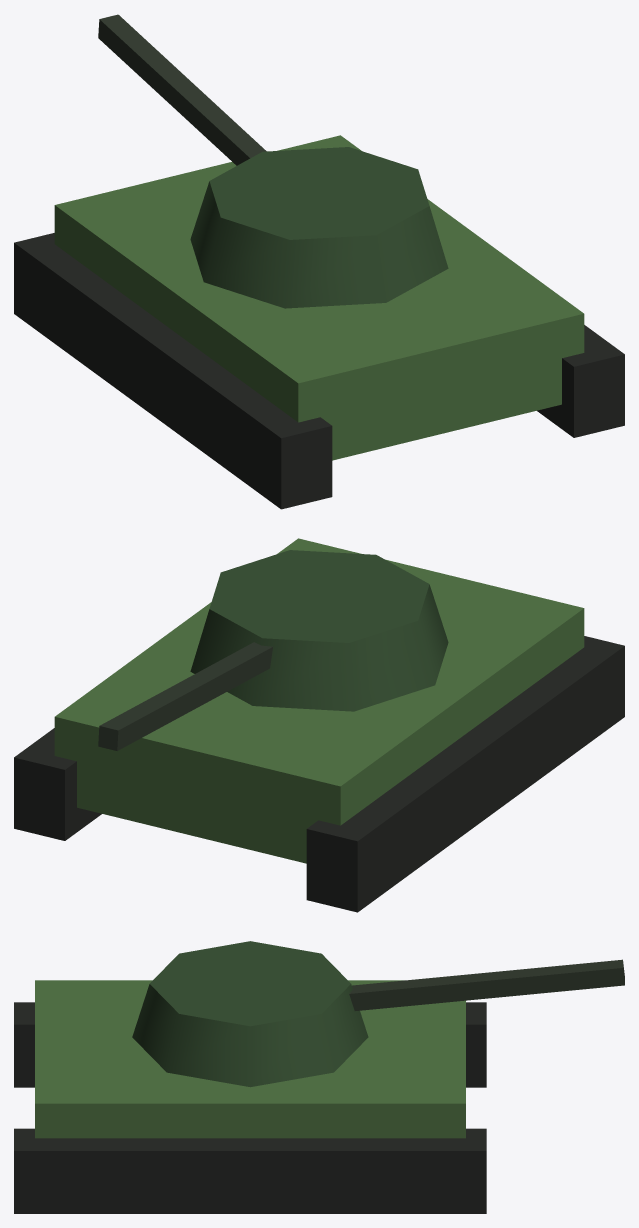
Rendered from zarch-player-tank.glb.
The picture shows the model from 3 angles, top to bottom: view 1: azimuth 30°, elevation 25°; view 2: azimuth 150°, elevation 25°; view 3: azimuth 270°, elevation 25°; orthographic projection. The views are drawn at different scales.
Visible parts, largest first — view 1: Chassis, Turret, TrackLeft, Cannon, TrackRight; view 2: Chassis, Turret, TrackLeft, Cannon, TrackRight; view 3: Chassis, TrackRight, Turret, Cannon, TrackLeft.
Part boxes in pixels (left/top/right/bottom): Chassis: left=54, top=135, right=584, bottom=460; Turret: left=190, top=147, right=448, bottom=308; TrackLeft: left=14, top=233, right=332, bottom=509; Cannon: left=98, top=14, right=266, bottom=165; TrackRight: left=537, top=325, right=624, bottom=437; Chassis: left=54, top=538, right=584, bottom=863; Turret: left=190, top=550, right=448, bottom=711; TrackLeft: left=306, top=636, right=624, bottom=912; Cannon: left=98, top=642, right=272, bottom=750; TrackRight: left=14, top=728, right=101, bottom=840; Chassis: left=35, top=980, right=465, bottom=1138; TrackRight: left=14, top=1128, right=486, bottom=1213; Turret: left=132, top=941, right=368, bottom=1087; Cannon: left=349, top=959, right=624, bottom=1010; TrackLeft: left=14, top=1002, right=486, bottom=1087.
Bounding box in the file's own units: 5.05 × 2.79 × 8.79.
